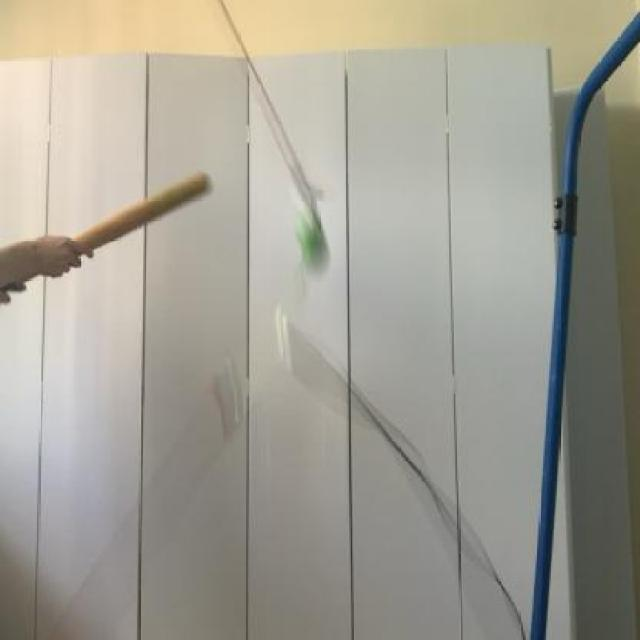baseball: (274, 197, 326, 286)
